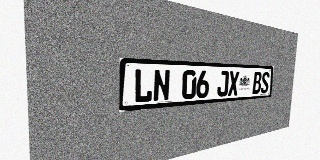0: (181, 70, 197, 100)
6: (196, 70, 210, 98)
B: (252, 72, 262, 94)
J: (217, 71, 229, 97)
L: (133, 69, 153, 103)
N: (153, 69, 170, 102)
S: (260, 72, 270, 93)
X: (228, 71, 239, 96)
